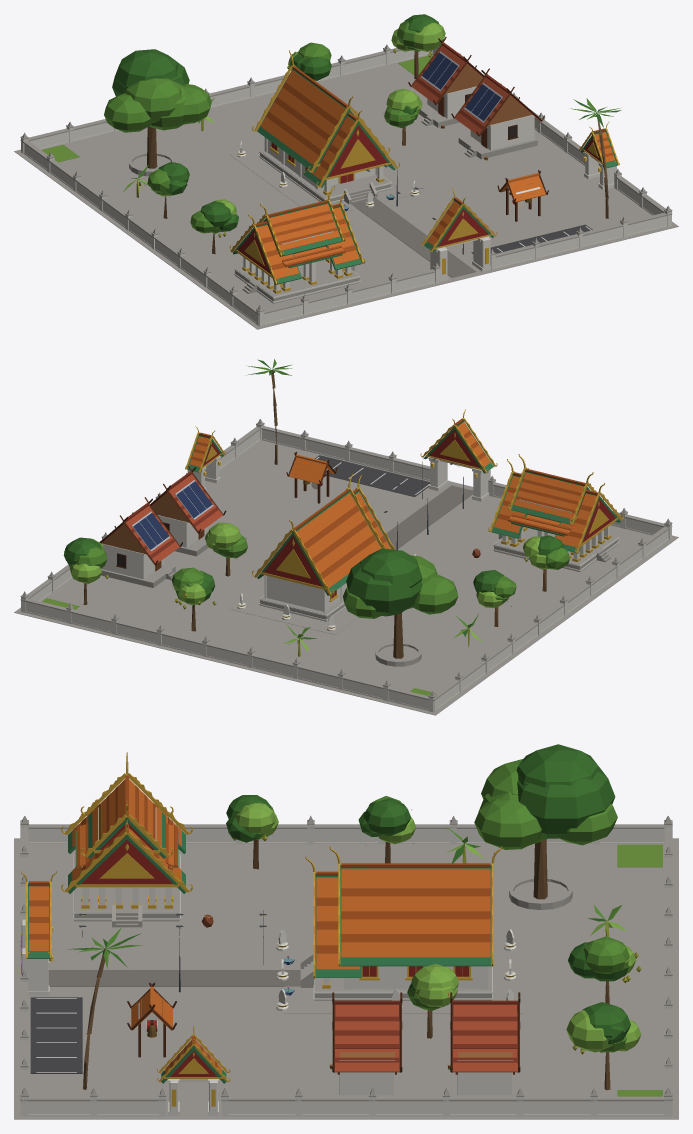
Rendered from temple_1.glb.
The picture shows the model from 3 angles, top to bottom: view 1: azimuth 30°, elevation 25°; view 2: azimuth 150°, elevation 25°; view 3: azimuth 270°, elevation 25°; orthographic projection. The views are drawn at different scales.
Parts seen in each view (by area): view 1: body; view 2: body; view 3: body.
Boxes of the visible parts, box(x1,y1,x2,y2) form: body: box(14, 14, 678, 329); body: box(14, 359, 678, 715); body: box(14, 744, 678, 1119).
Bounding box in the file's own units: 47.9 × 12.13 × 47.9.
